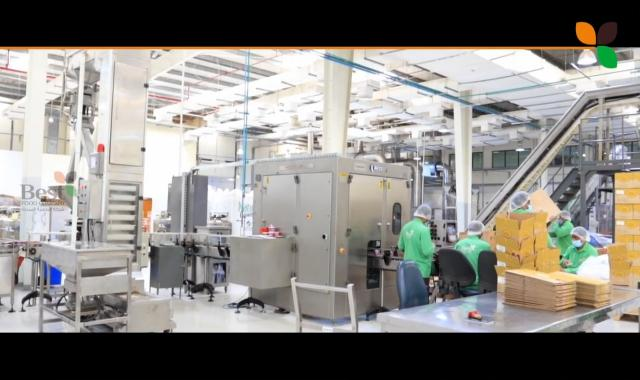hairnet: (511, 189, 530, 212), (570, 228, 590, 245), (413, 204, 431, 220), (466, 221, 483, 236), (560, 211, 570, 222)
